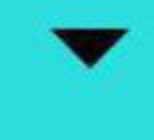ImgButton: (1, 1, 153, 139)
